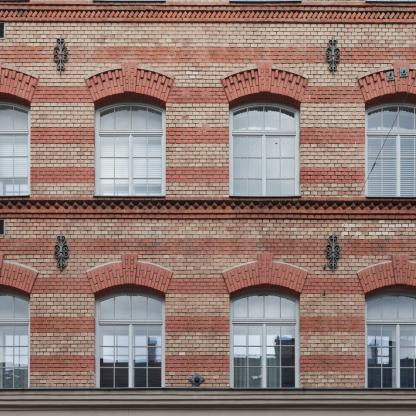Building Outline: (1, 1, 416, 416)
Cornice: (1, 197, 416, 219), (1, 389, 416, 407), (1, 5, 416, 22), (221, 61, 308, 101), (221, 253, 308, 293), (86, 62, 173, 101), (86, 254, 173, 293), (356, 62, 416, 101), (356, 254, 416, 293), (0, 253, 39, 293), (0, 62, 39, 101)
Deco: (53, 232, 69, 271), (53, 35, 69, 74), (326, 232, 341, 271), (326, 35, 341, 74)
Facade: (1, 1, 416, 416)
Floor: (1, 22, 416, 197), (1, 219, 416, 388)
Floor Slab: (1, 197, 416, 219), (1, 389, 416, 407), (1, 5, 416, 22)
Window: (94, 92, 166, 196), (94, 284, 166, 388), (230, 92, 301, 196), (230, 284, 301, 388), (365, 92, 416, 196), (365, 284, 416, 388), (0, 92, 30, 197), (0, 284, 30, 389)
